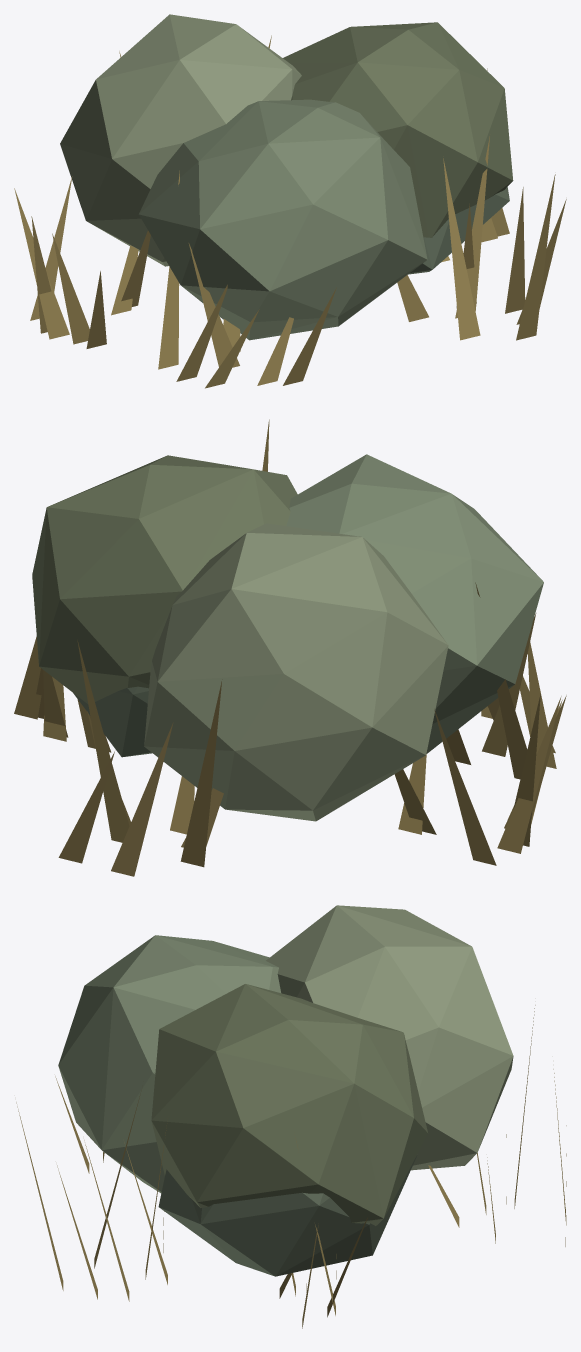
The model's file is sage.glb.
The picture shows the model from 3 angles, top to bottom: view 1: azimuth 30°, elevation 25°; view 2: azimuth 150°, elevation 25°; view 3: azimuth 270°, elevation 25°; orthographic projection. The views are drawn at different scales.
Parts seen in each view (by area): view 1: sage; view 2: sage; view 3: sage.
Boxes of the visible parts, bbox=[...] form: sage: bbox=[14, 14, 566, 388]; sage: bbox=[14, 419, 566, 876]; sage: bbox=[16, 905, 566, 1328].
Bounding box in the file's own units: 0.8523 × 0.4122 × 0.7825.
